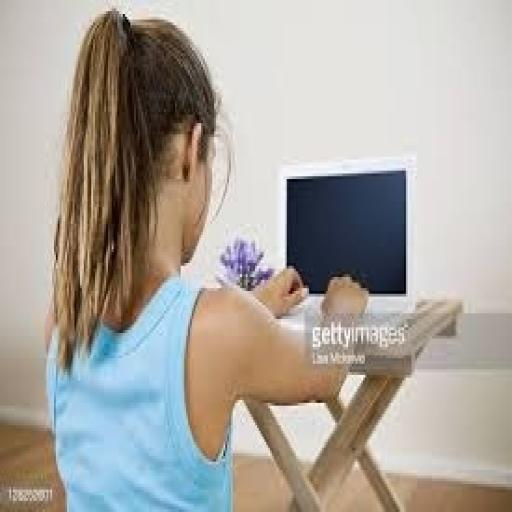using_laptop: (276, 154, 417, 322)
